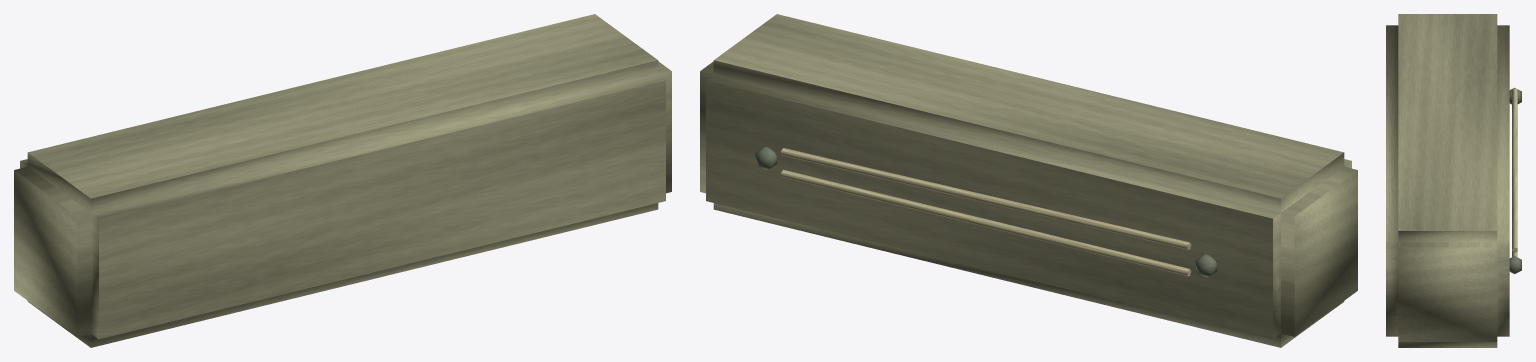
The model's file is timber-beam-0.fbx.
3 views of the same model, side by side, from view 1: azimuth 30°, elevation 25°; view 2: azimuth 150°, elevation 25°; view 3: azimuth 270°, elevation 25° (orthographic). The views are drawn at different scales.
Parts seen in each view (by area): view 1: timber-beam-0__Geometry; view 2: timber-beam-0__Geometry; view 3: timber-beam-0__Geometry.
Part boxes in pixels (x1,y1,x2,y2): timber-beam-0__Geometry: (14, 14, 671, 347); timber-beam-0__Geometry: (700, 14, 1357, 347); timber-beam-0__Geometry: (1386, 14, 1521, 347).
Size of the model in its own units: 1 by 0.24 by 0.2526.
Materials: 1 (1 with a texture image).
